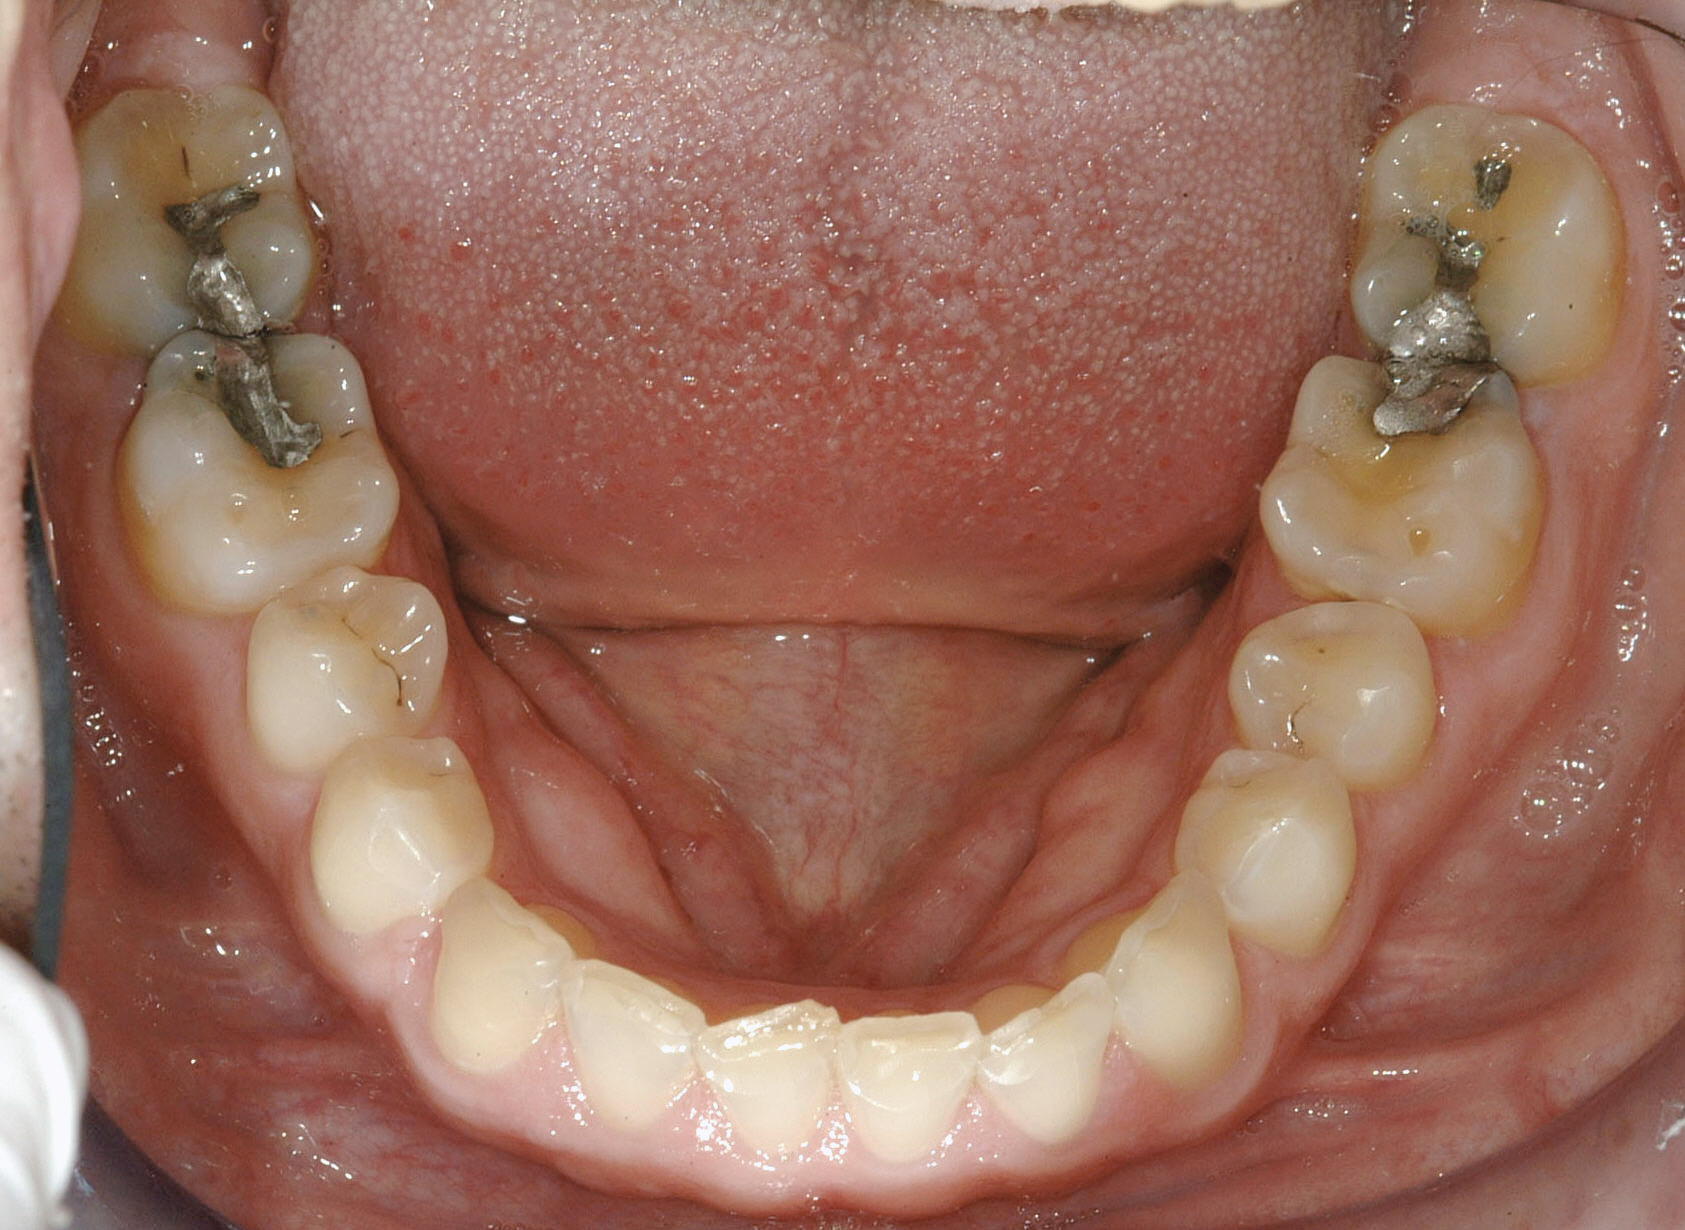LL1BC_healthy: (1153, 748, 1364, 972)
LL1M_decay: (1259, 345, 1555, 631)
LL2BC_decay: (1225, 595, 1443, 803)
LL2M_decay: (1340, 116, 1631, 381)
LLCI_healthy: (828, 991, 982, 1168)
LLC_healthy: (1088, 877, 1249, 1081)
LLLI_healthy: (967, 959, 1116, 1159)
LR1BC_healthy: (304, 724, 495, 941)
LR1M_decay: (103, 327, 403, 618)
LR2BC_decay: (235, 559, 457, 801)
LR2M_decay: (59, 80, 321, 364)
LRCI_healthy: (700, 991, 839, 1161)
LRC_healthy: (429, 883, 572, 1076)
LRLI_healthy: (546, 960, 727, 1132)
